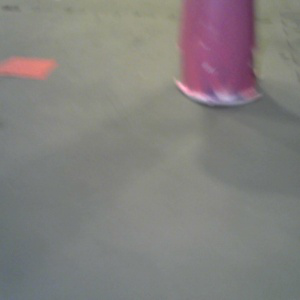right: (173, 1, 267, 110)
